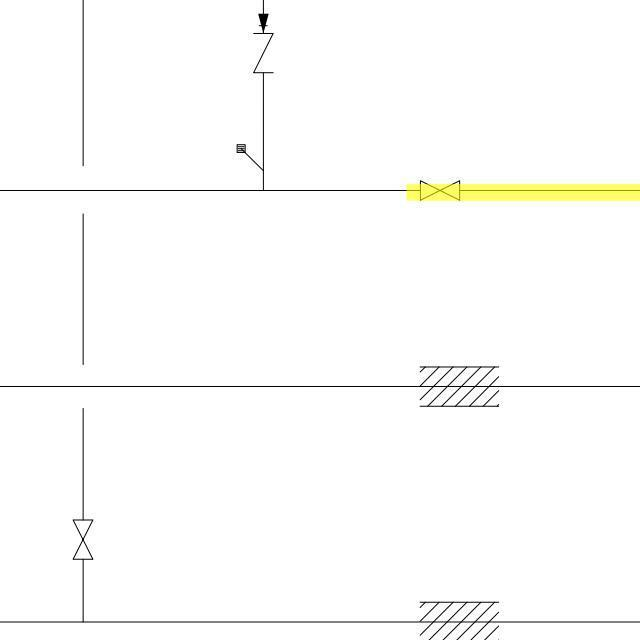GV: (416, 173, 463, 202), (70, 513, 96, 565)
